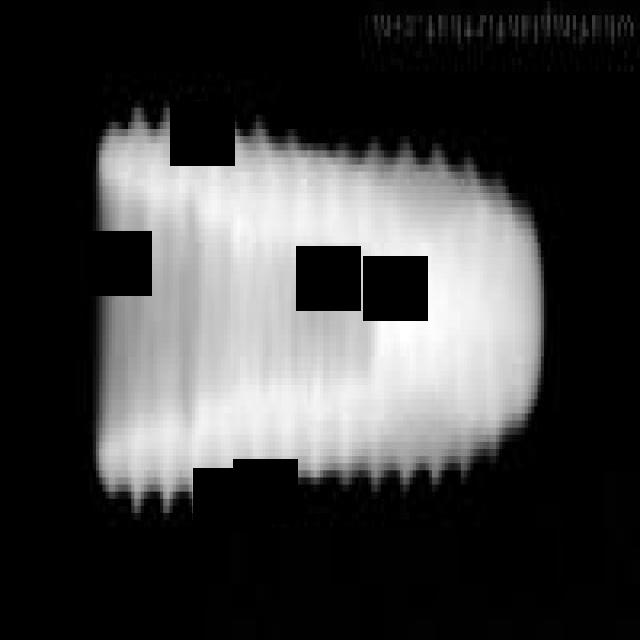Titan Implant Implant: (96, 114, 550, 505)
